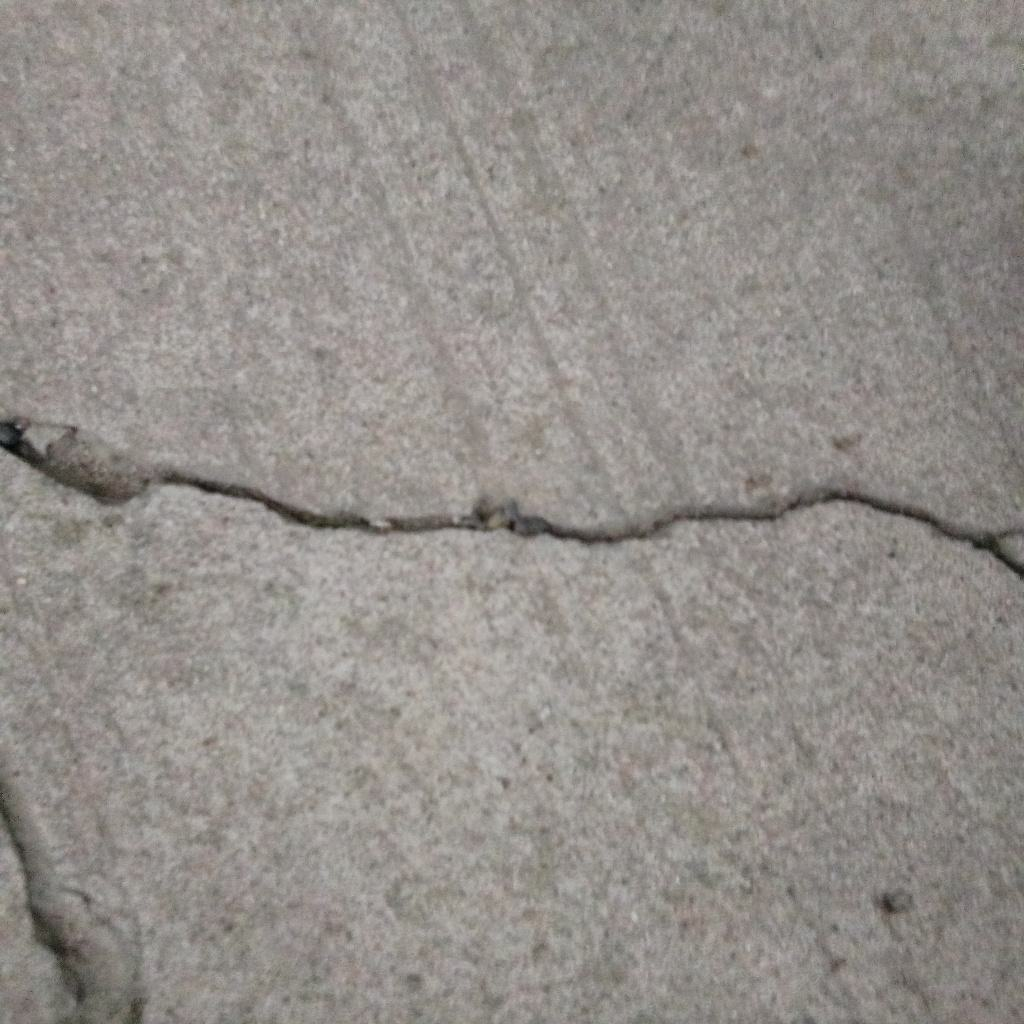Crack: (1, 415, 1024, 582), (1, 767, 143, 1024)
Spalling: (878, 888, 917, 915)
